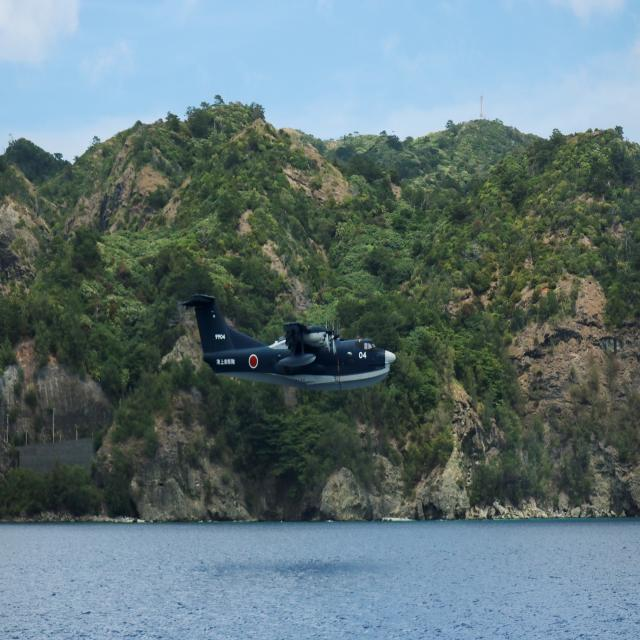MIL_Plane: (180, 293, 396, 390)
